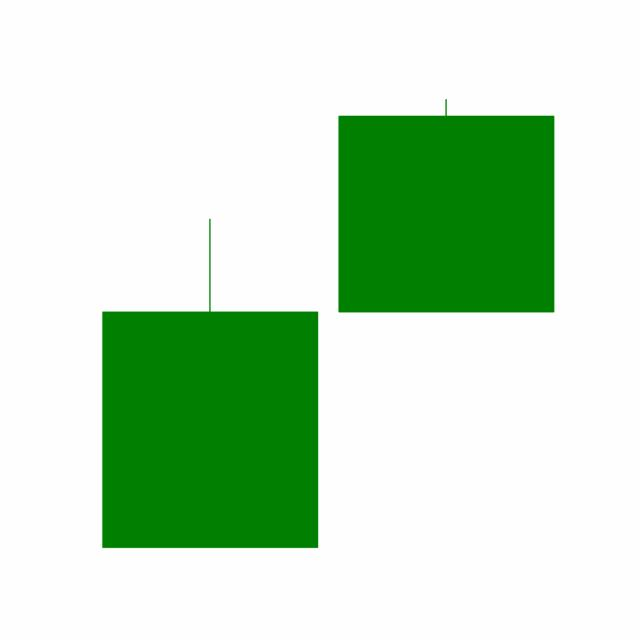Marubozu: (327, 97, 565, 314)
